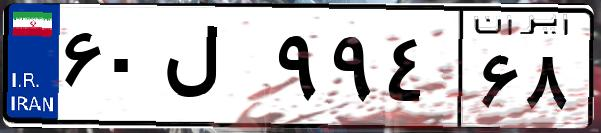0: (110, 28, 158, 98)
4: (385, 28, 445, 110)
6: (57, 26, 110, 100), (475, 38, 525, 113)
8: (525, 38, 570, 115)
9: (270, 28, 330, 110), (330, 28, 385, 110)
ل: (158, 20, 270, 120)
